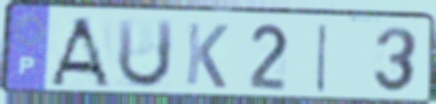2: (247, 21, 291, 93)
3: (369, 25, 420, 95)
A: (47, 15, 114, 90)
I: (314, 21, 331, 95)
K: (183, 20, 231, 91)
U: (114, 17, 176, 92)
